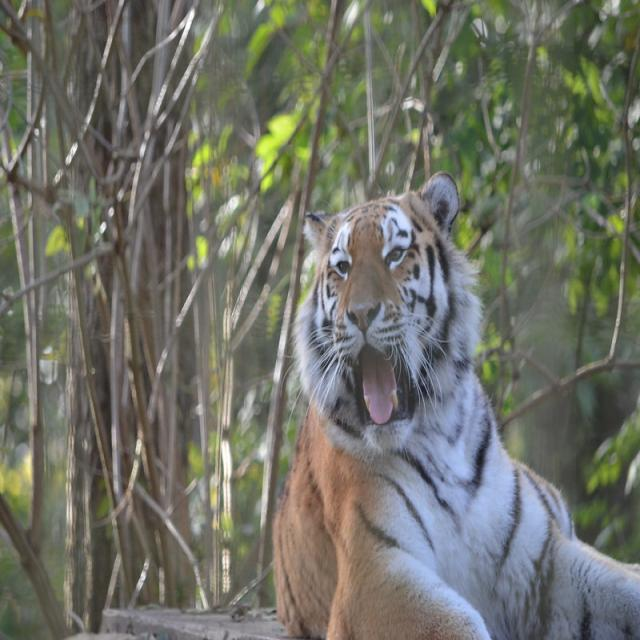Tiger: (268, 168, 638, 636)
